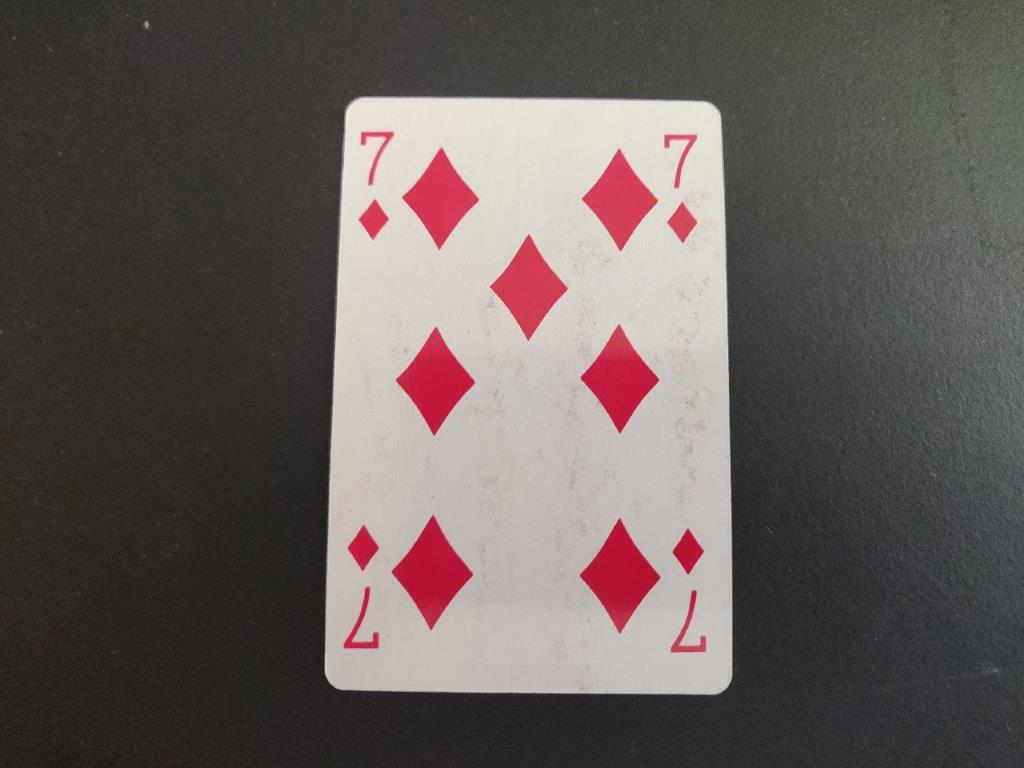7D: (658, 130, 704, 251), (354, 127, 395, 246)
